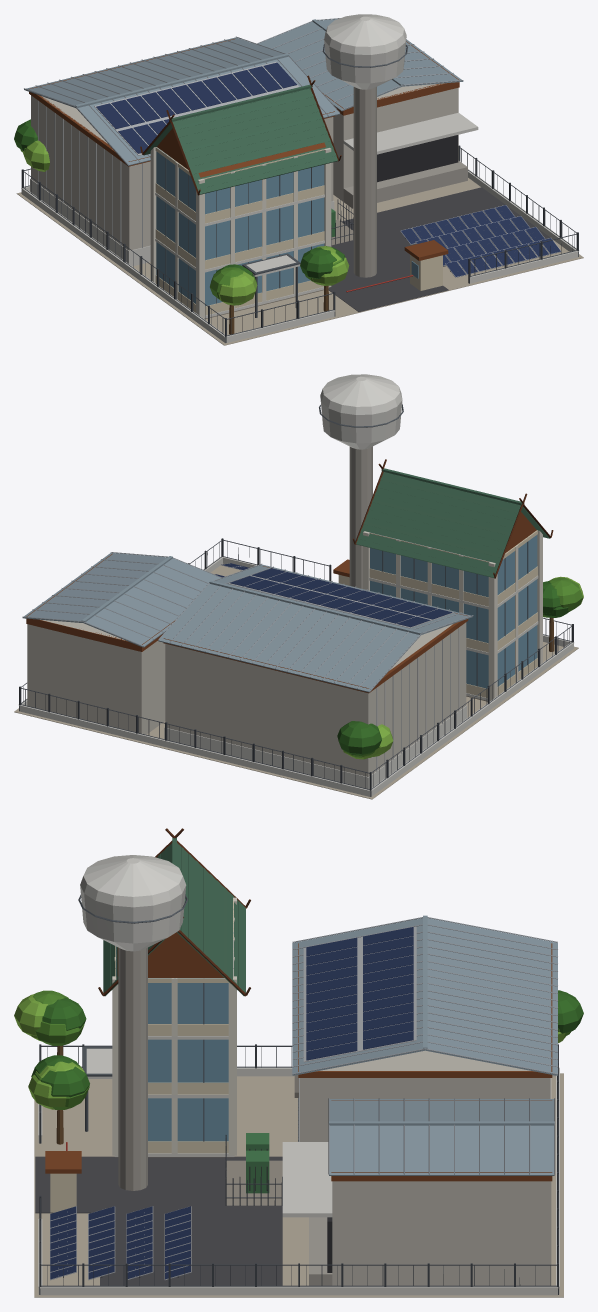
The model's file is factory_4.glb.
The picture shows the model from 3 angles, top to bottom: view 1: azimuth 30°, elevation 25°; view 2: azimuth 150°, elevation 25°; view 3: azimuth 270°, elevation 25°; orthographic projection. The views are drawn at different scales.
Parts seen in each view (by area): view 1: body; view 2: body; view 3: body.
Boxes of the visible parts, x1,y1,x2,y2 form: body: [14, 14, 583, 345]; body: [14, 374, 583, 799]; body: [14, 828, 583, 1297].
Bounding box in the file's own units: 32.41 × 21.79 × 34.34.
